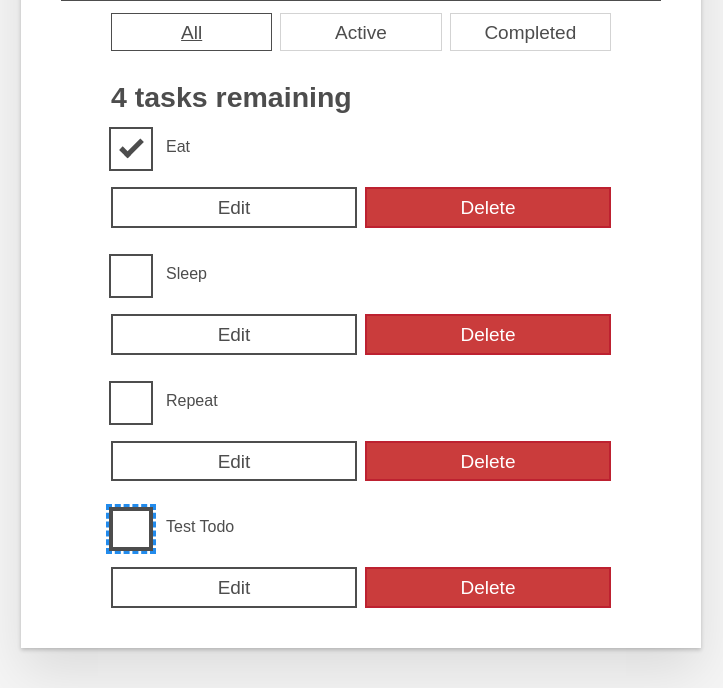
Test: Todolist tasks › can filter for active tasks
(page scrolled)
Click the button "Active": (361, 33) [280,13,441,52]
(page scrolled)
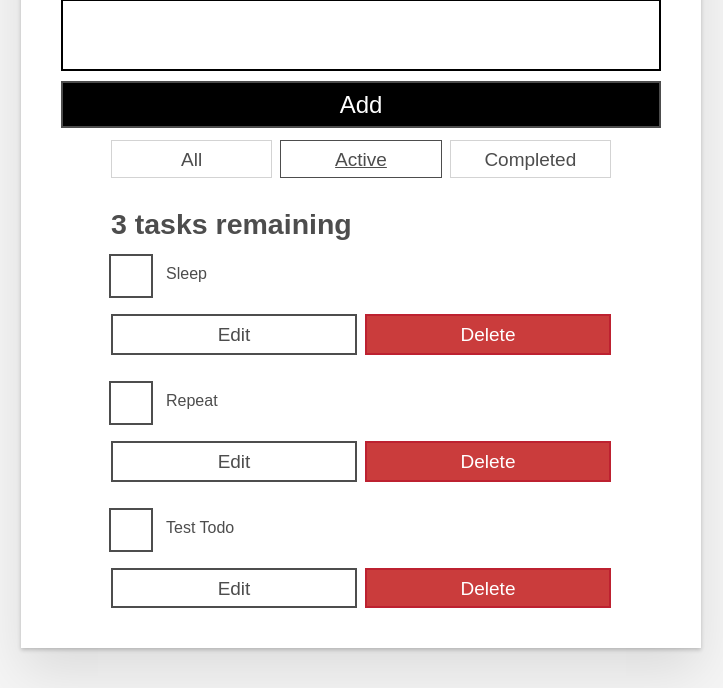
Expected: the checkbox "Sleep" is shown, [151,256,222,289]
Now the number of list items is 3, box [111,256,611,355]; [111,383,611,482]; [111,510,611,608]
